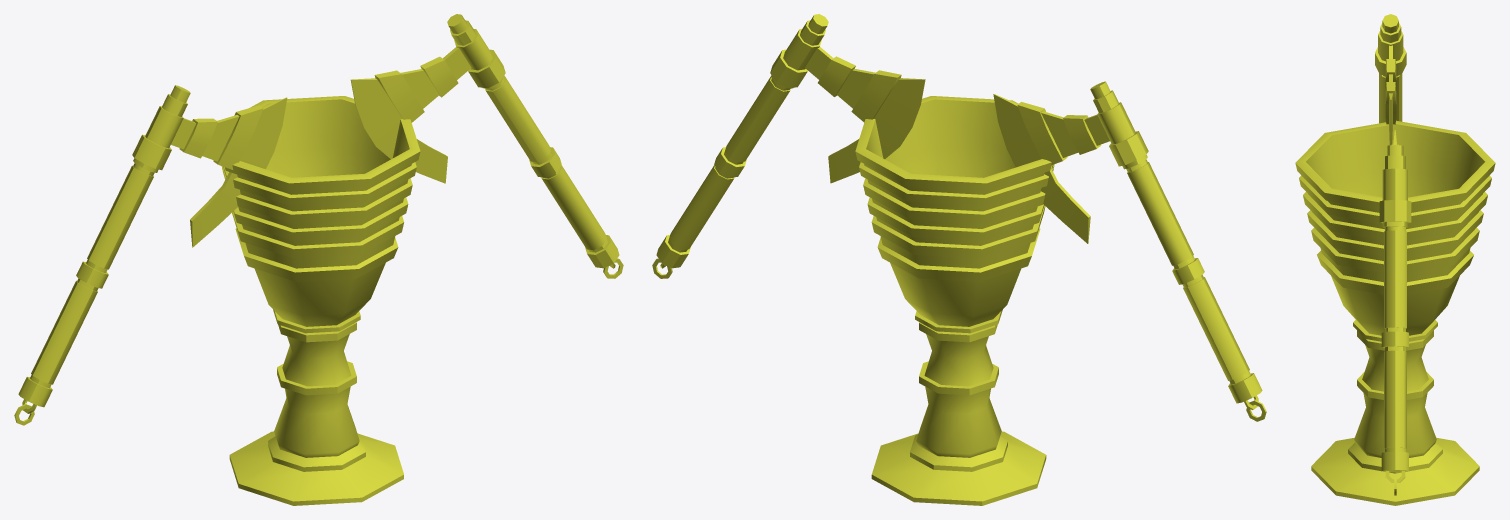
File: Gold_Trophy_Asset.FBX
3 renders of one model, left to right at view 1: azimuth 30°, elevation 25°; view 2: azimuth 150°, elevation 25°; view 3: azimuth 270°, elevation 25°, orthographic. The views are drawn at different scales.
Visible parts, largest first — view 1: Gold_Cup; view 2: Gold_Cup; view 3: Gold_Cup.
Boxes of the visible parts, x1,y1,x2,y2 form: Gold_Cup: (14, 14, 623, 505); Gold_Cup: (652, 14, 1266, 505); Gold_Cup: (1295, 14, 1495, 505).
Size of the model in its own units: 0.9058 by 0.594 by 0.2756.
